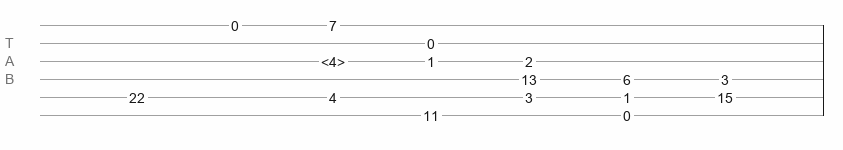0: (231, 18, 239, 28), (427, 36, 435, 46), (623, 108, 631, 118)
1: (427, 54, 435, 64), (623, 90, 631, 100)
11: (423, 108, 439, 118)
13: (521, 72, 537, 82)
15: (717, 90, 733, 100)
2: (525, 54, 533, 64)
22: (129, 90, 145, 100)
3: (525, 90, 533, 100), (721, 72, 729, 82)
4: (329, 90, 337, 100)
6: (623, 72, 631, 82)
7: (329, 18, 337, 28)
harmonic: (321, 54, 345, 64)
